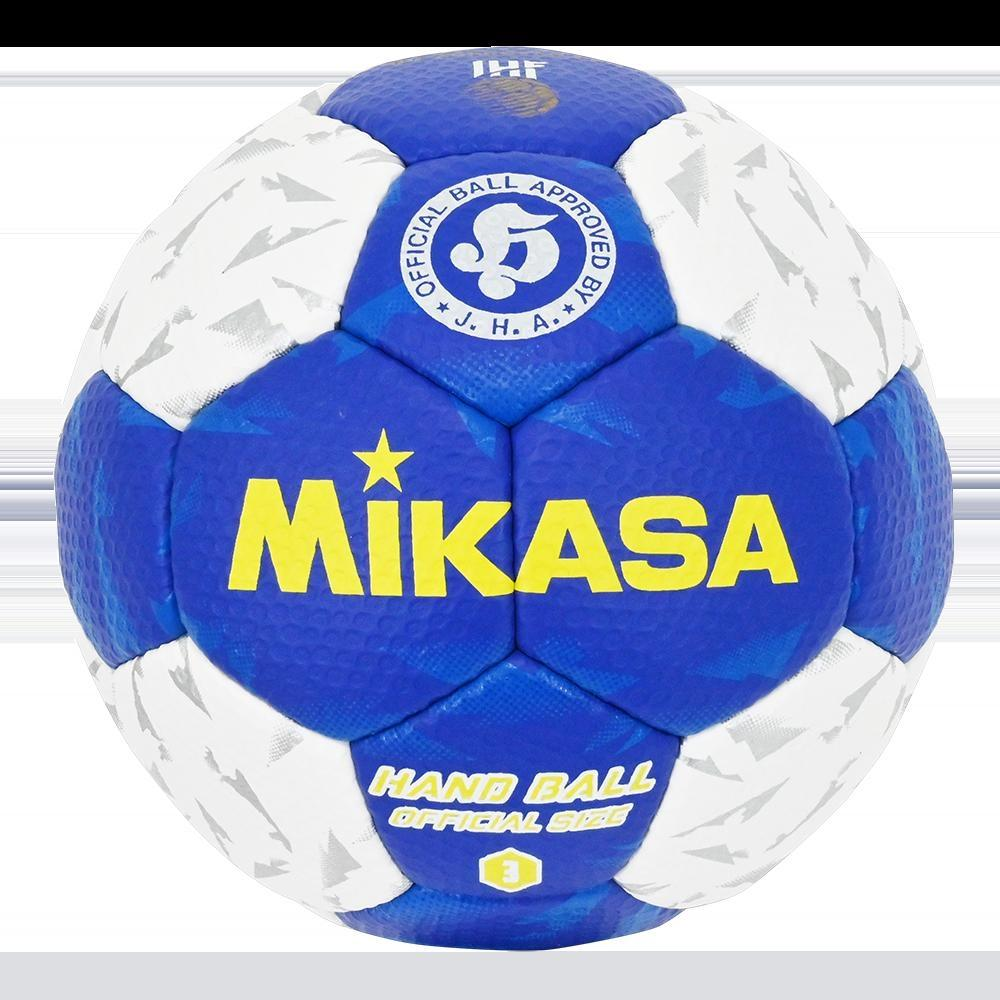Sports-Ball: (48, 38, 958, 946)
